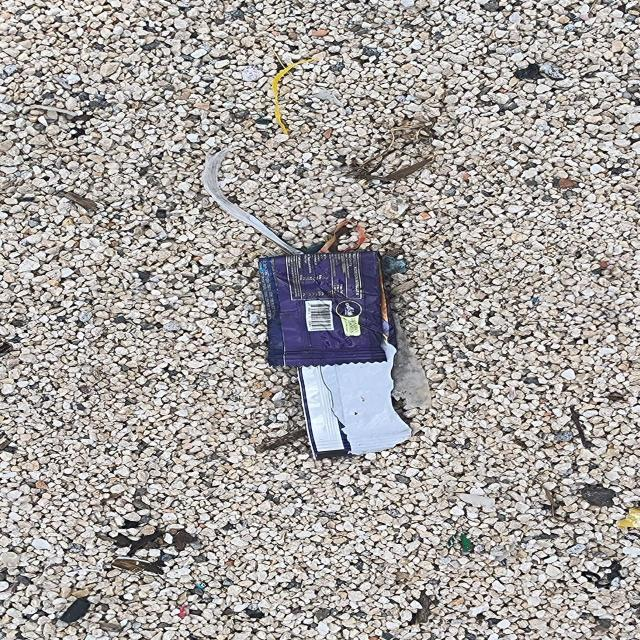plastic_waste: (258, 251, 415, 460)
